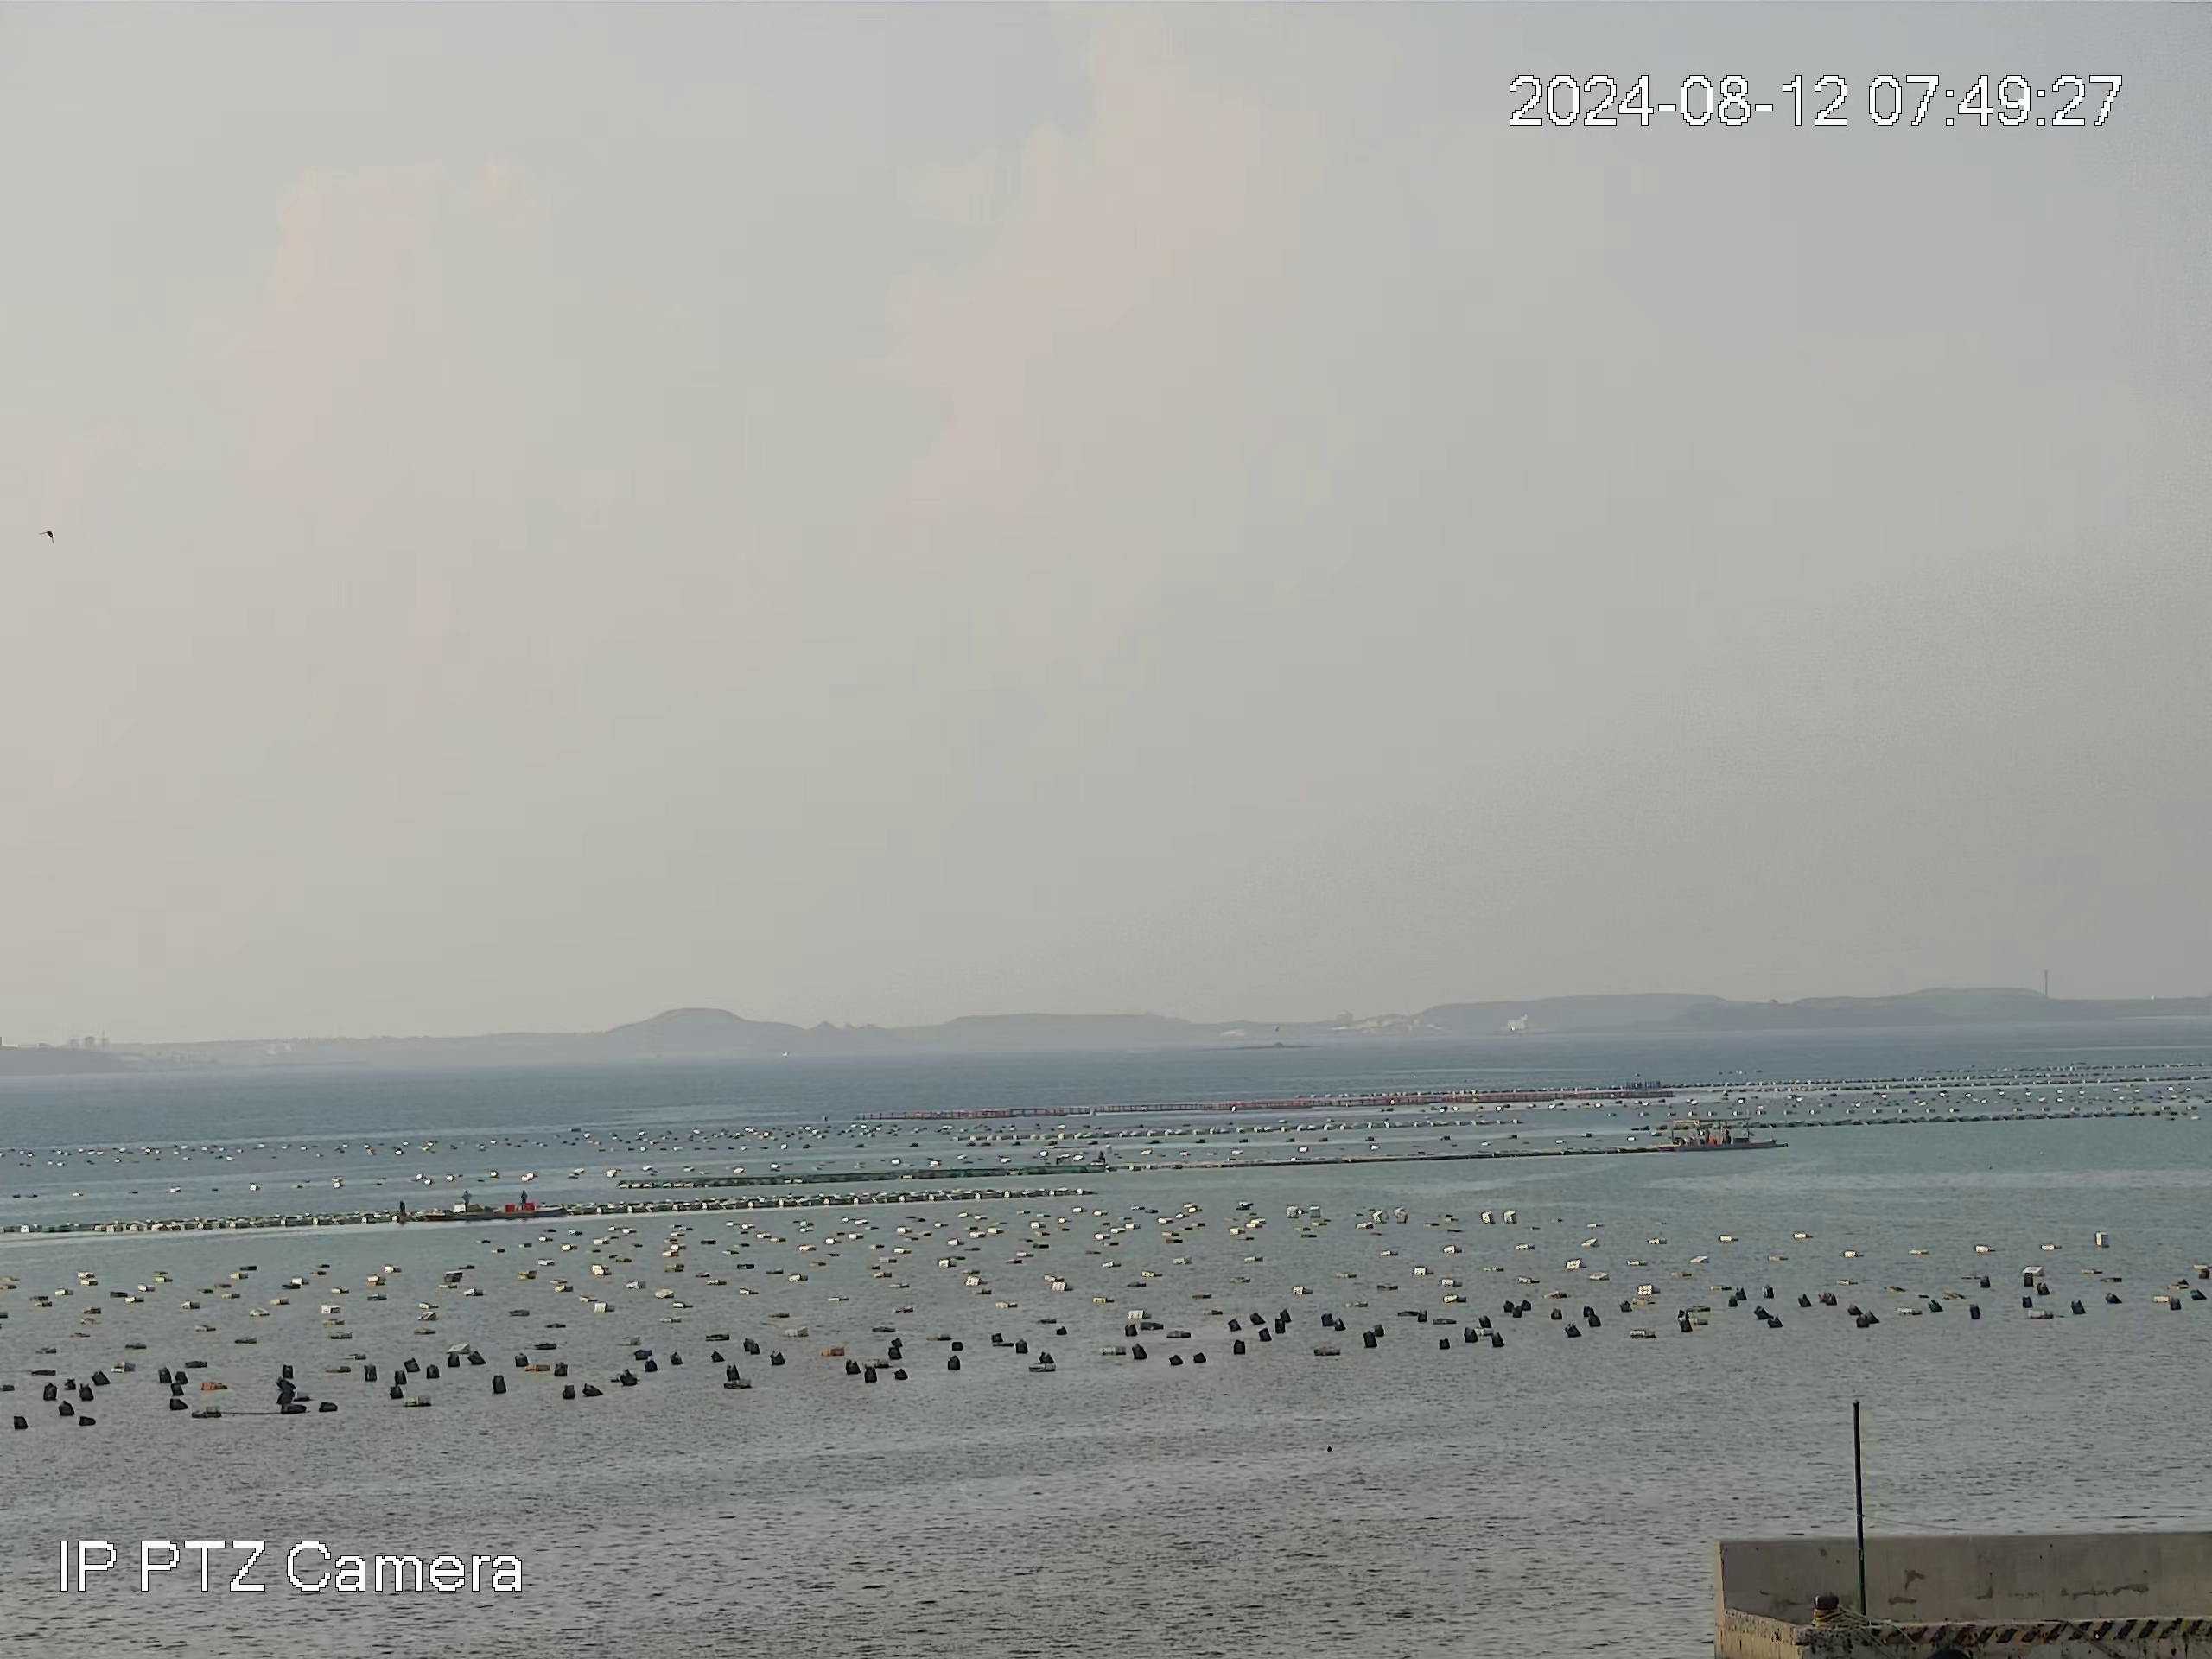boat: (395, 1180, 573, 1222), (1660, 1119, 1780, 1157)
